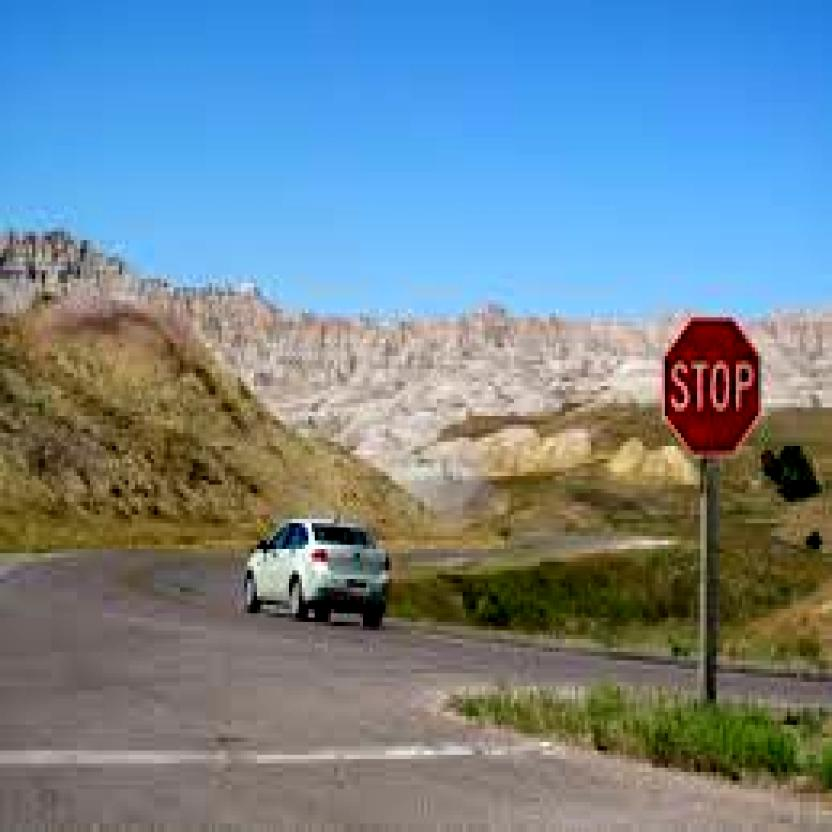Pole: (698, 464, 718, 706)
Sign: (663, 316, 761, 458)
